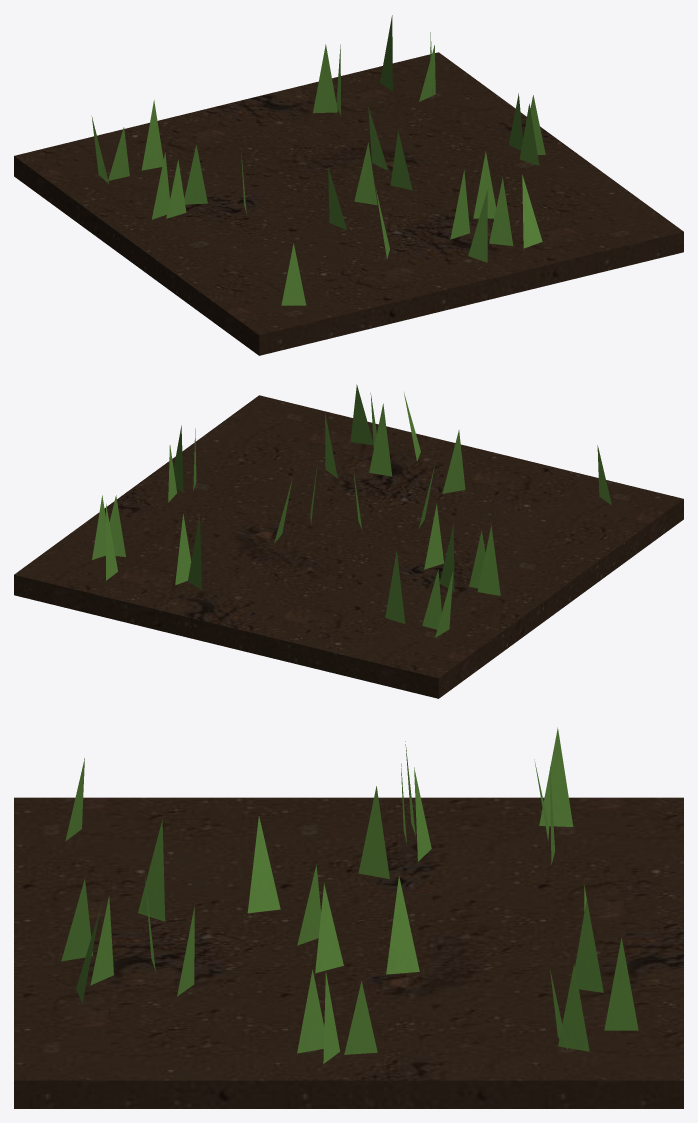
File: wheat_sprout_01.glb
3 views of the same model, one above another, from view 1: azimuth 30°, elevation 25°; view 2: azimuth 150°, elevation 25°; view 3: azimuth 270°, elevation 25° (orthographic). The views are drawn at different scales.
Parts seen in each view (by area): view 1: wheat_sprout_01; view 2: wheat_sprout_01; view 3: wheat_sprout_01.
Boxes of the visible parts, bbox=[...] form: wheat_sprout_01: bbox=[14, 15, 683, 355]; wheat_sprout_01: bbox=[14, 384, 683, 698]; wheat_sprout_01: bbox=[14, 727, 683, 1108].
Size of the model in its own units: 1.3 by 0.2699 by 1.3.
2 materials, 2 textured.
